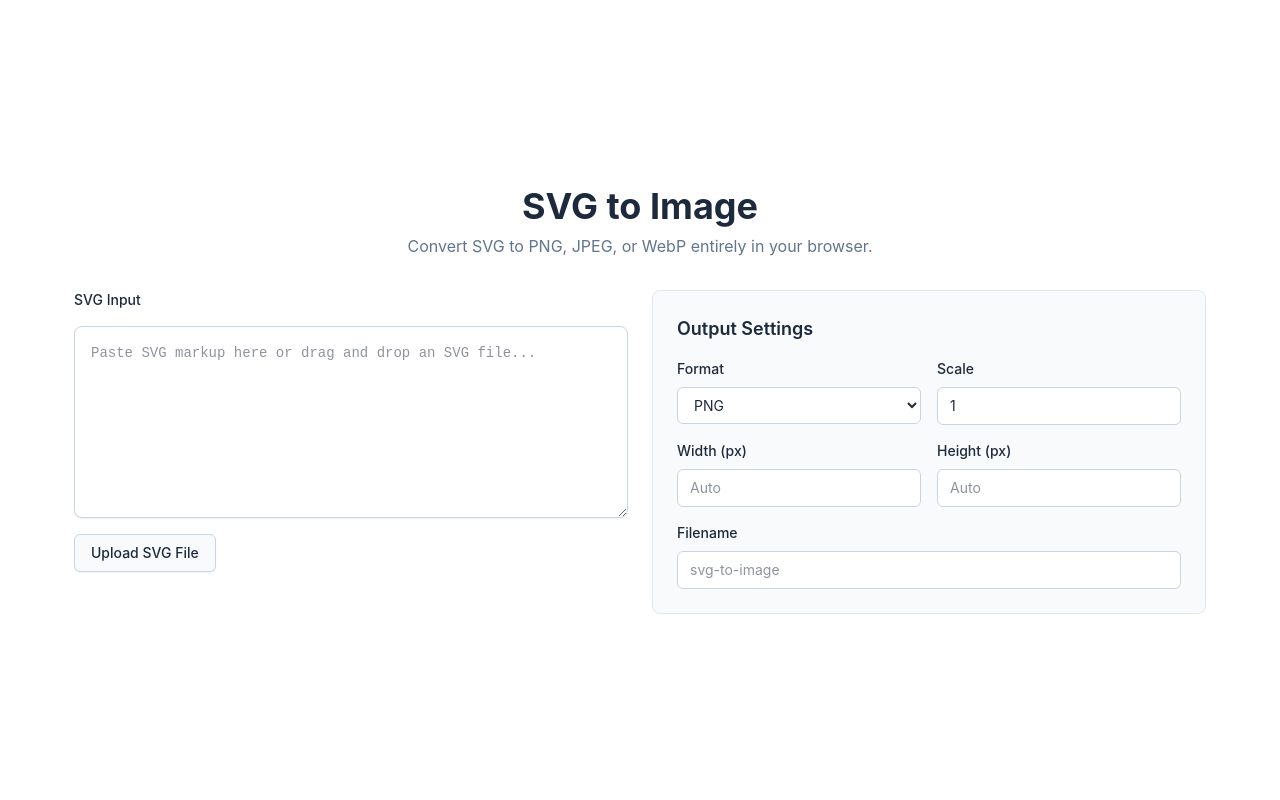
Test: App component › clears state when the textarea is cleared
In the text box labelled "SVG Input": (351,422) [74,326,628,518], type "<svg xmlns=\"http://www.w3.org/2000/svg\" width=\"100\" height=\"50\"><rect width=\"100\" height=\"50\" fill=\"red\"/></svg>"
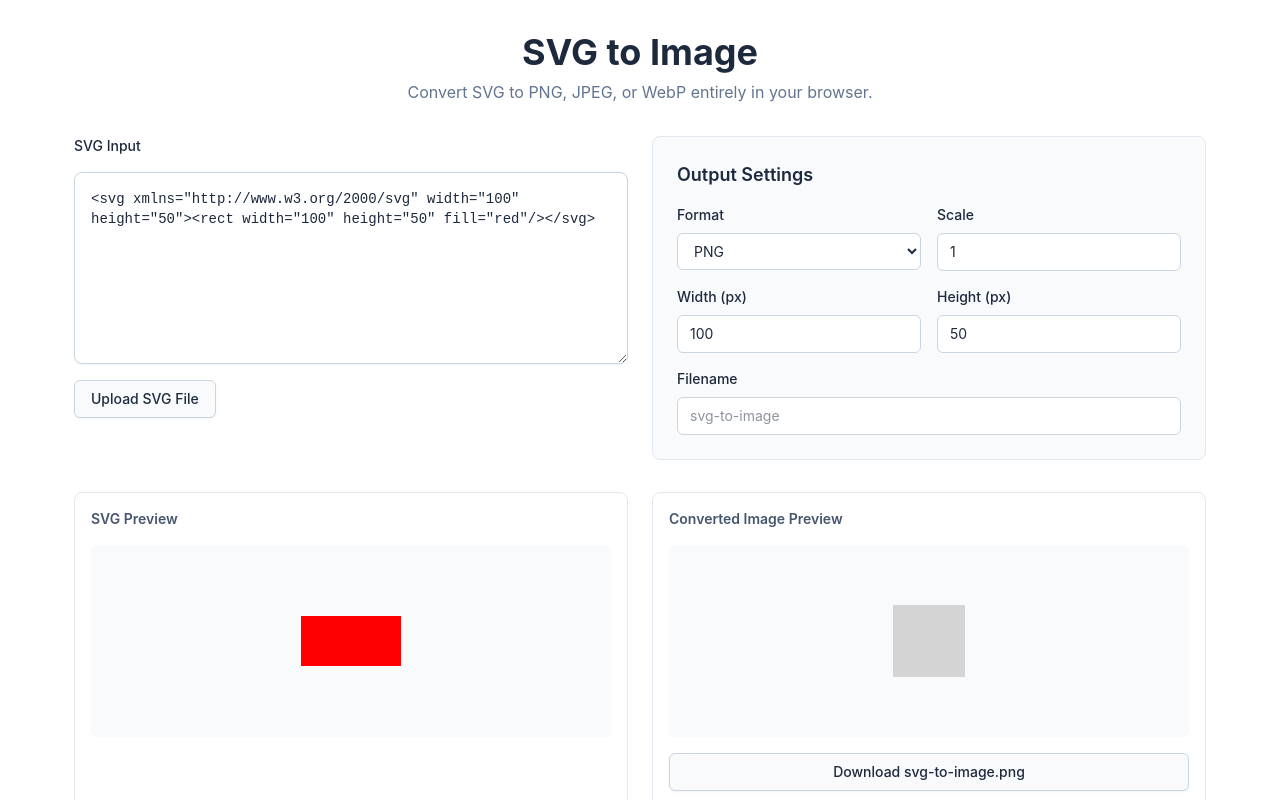
Clear the text box labelled "SVG Input": (351,268) [74,172,628,364]
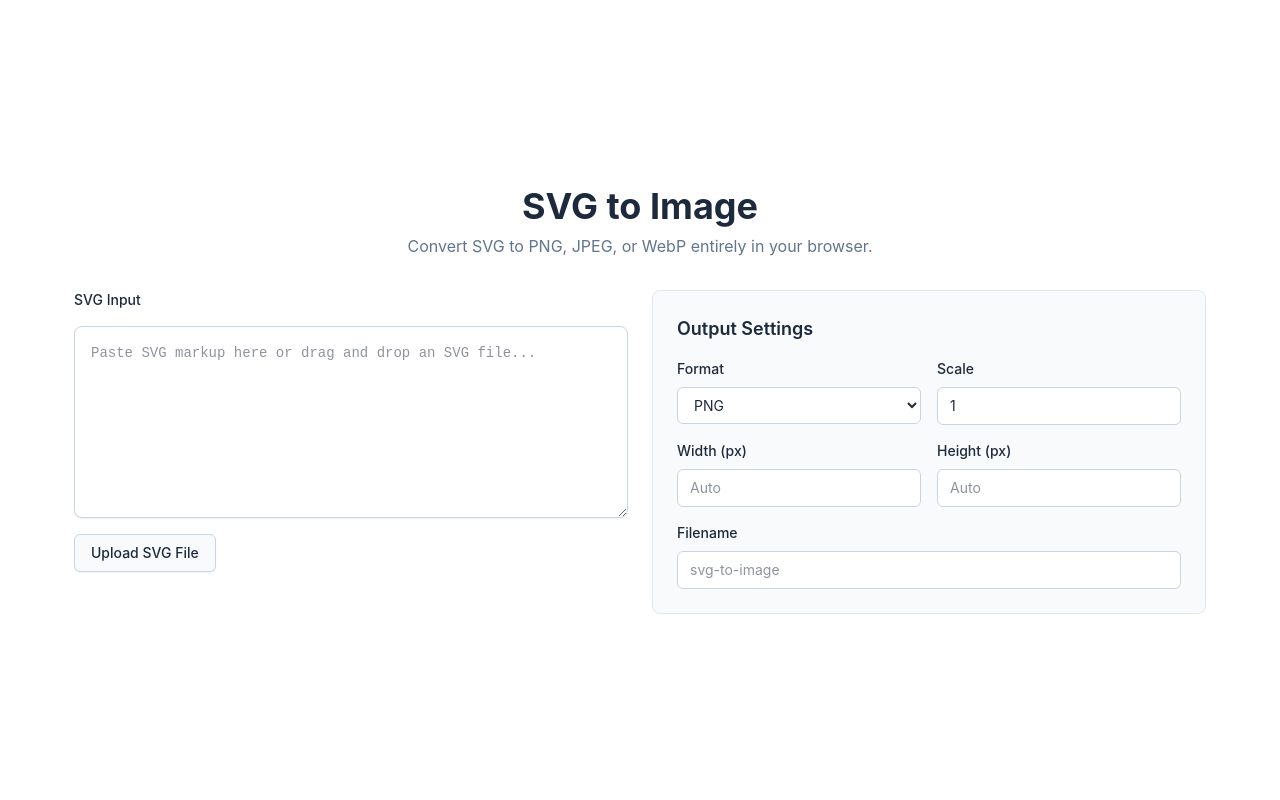
Now the number field labelled "Width (px)" is not empty, box [677,469,921,507]
Now the number field labelled "Height (px)" is not empty, box [937,469,1181,507]
